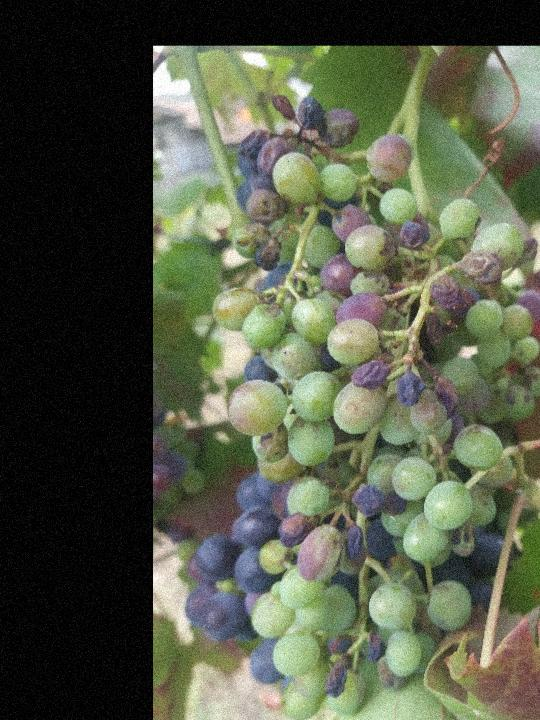grape: (184, 92, 540, 720)
